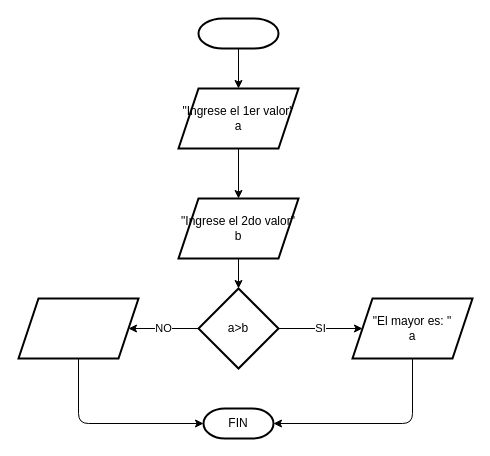
Some shapes in this 490 by 456 pixel diagram are drawn without their labels. The shapes that lost their labels are listed below. From the top down, each one's centre as x and y in pixels, then its label:
(238,33): INICIO
(78,328): "El mayor es: " b
